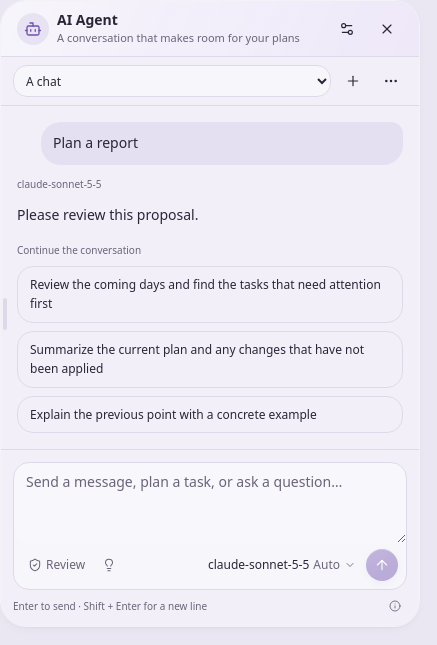
Test case: AI Agent sidebar › fills follow-up suggestions without sending them and allows turning suggestions off
Click the button with aria-label "Use suggestion: Explain the previous point": (210, 414) [17,396,403,433]
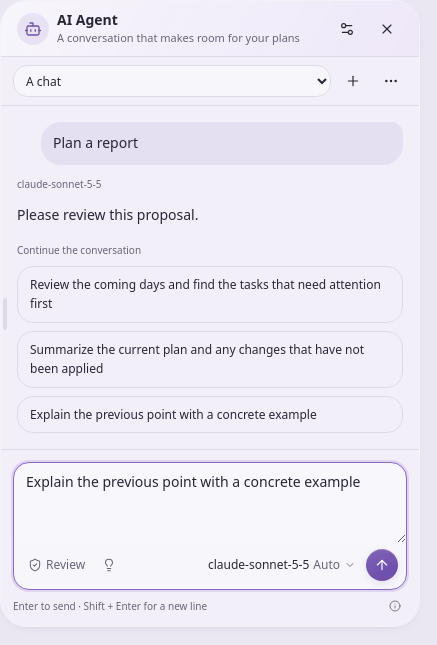
Result: the text box named "Message AI Agent" holds "Explain the previous point with a concrete example" at [14,463,406,543]
Click the button named "Prompt suggestion options": (109, 565) [95,551,123,579]
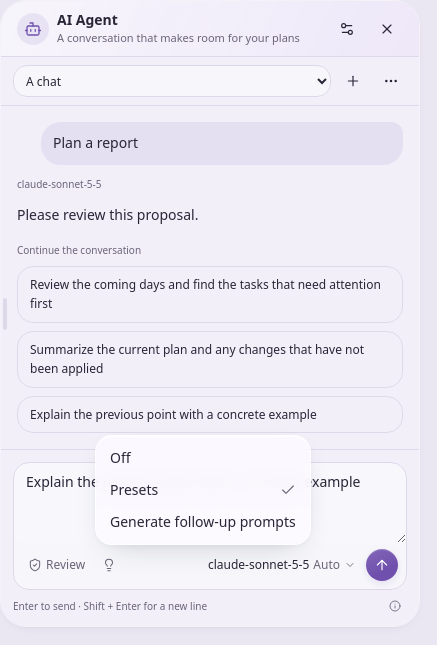
Click the menu item "Off": (120, 458) [110,448,131,467]
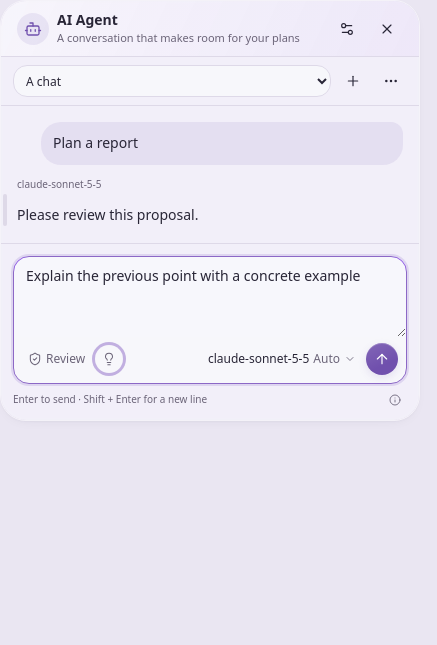
Result: the text "Continue the conversation" is gone
